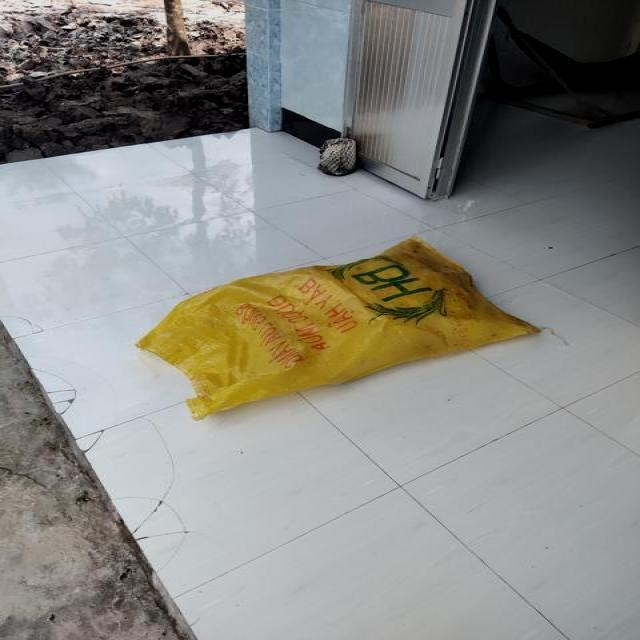gunny_bag: (137, 237, 540, 419)
